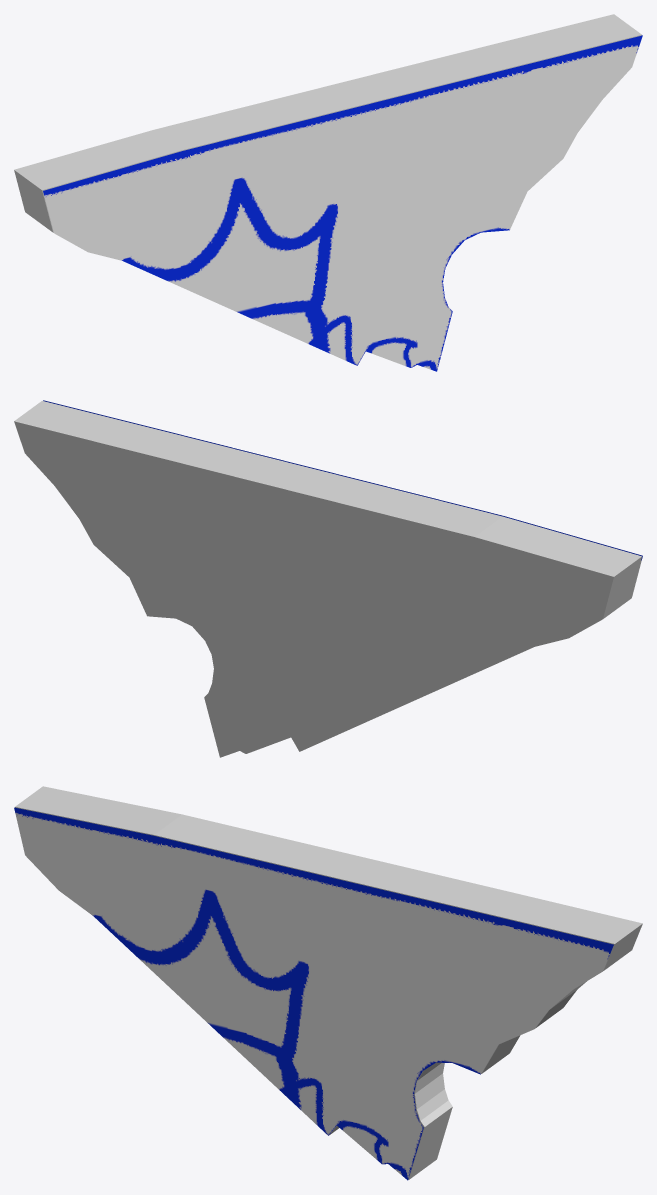
3 renders of one model, top to bottom at view 1: azimuth 30°, elevation 25°; view 2: azimuth 150°, elevation 25°; view 3: azimuth 330°, elevation 25°, orthographic.
Parts seen in each view (by area): view 1: Out_4_1, Out_4_0; view 2: Out_4_0, Out_4_1; view 3: Out_4_1, Out_4_0.
Boxes of the visible parts, <box> form: Out_4_1: <box>43,35,642,371</box>; Out_4_0: <box>14,14,641,232</box>; Out_4_0: <box>14,401,641,757</box>; Out_4_1: <box>43,400,642,598</box>; Out_4_1: <box>14,807,613,1180</box>; Out_4_0: <box>15,786,642,1179</box>.
Bounding box in the file's own units: 6.16 × 2.81 × 0.515.
Materials: 2 (1 with a texture image).
